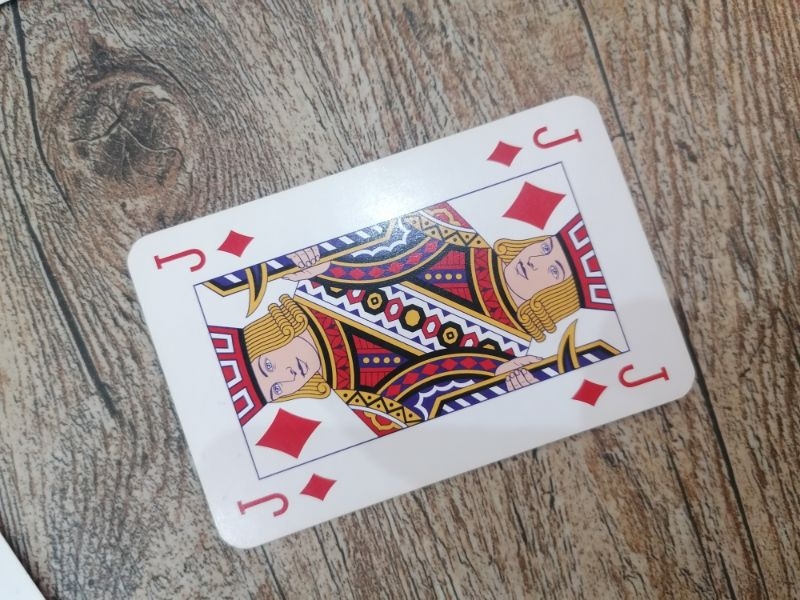Jd: (233, 469, 343, 519), (150, 224, 255, 274), (570, 361, 672, 410), (485, 121, 584, 171)
